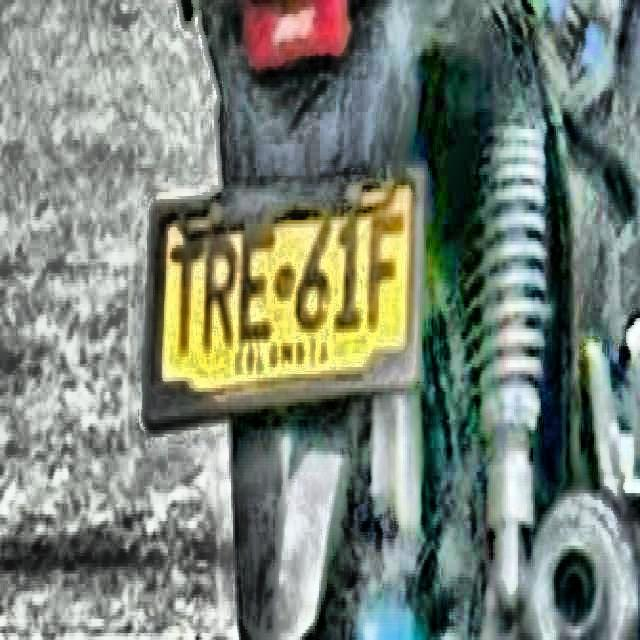plate: (155, 183, 414, 405)
